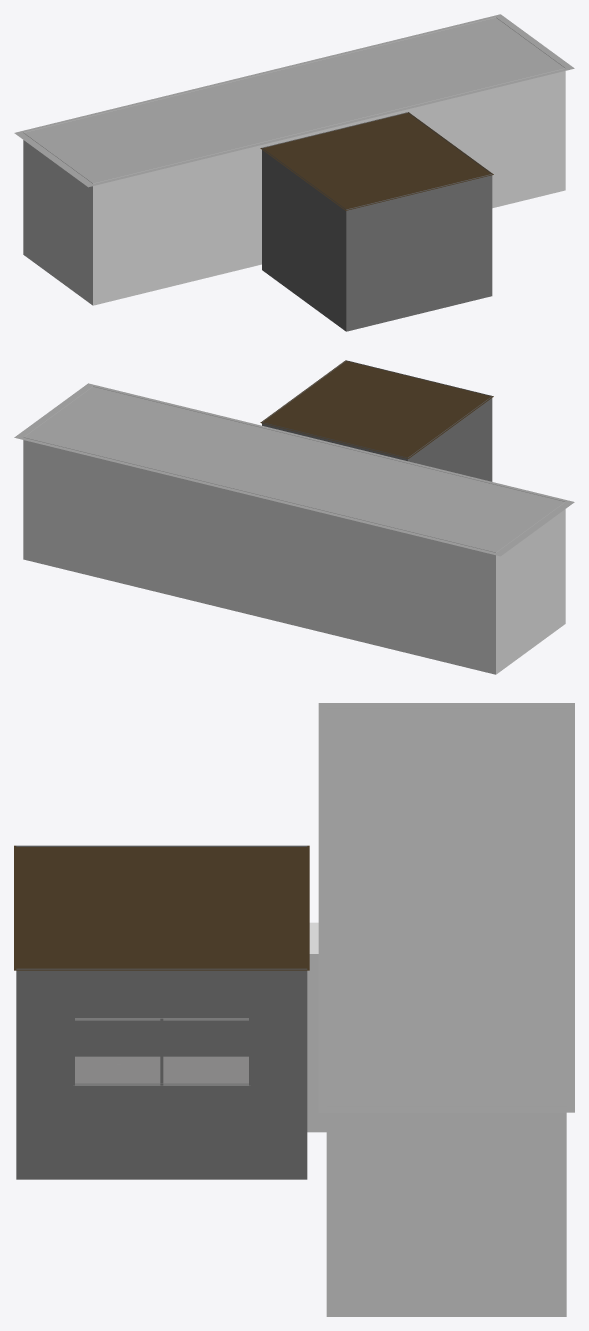
Rendered from Hospital_With_Windows_002.fbx.
3 views of the same model, one above another, from view 1: azimuth 30°, elevation 25°; view 2: azimuth 150°, elevation 25°; view 3: azimuth 270°, elevation 25° (orthographic). The views are drawn at different scales.
Visible parts, largest first — view 1: Room_003__Floor_Boards_:Rooms, Room_003__Floor_Boards_:Lab_Ceiling, Room_003__Floor_Boards_:Basement_Ceiling; view 2: Room_003__Floor_Boards_:Rooms, Room_003__Floor_Boards_:Lab_Ceiling, Room_003__Floor_Boards_:Basement_Ceiling; view 3: Room_003__Floor_Boards_:Rooms, Room_003__Floor_Boards_:Lab_Ceiling, Room_003__Floor_Boards_:Basement_Ceiling.
Part boxes in pixels (bbox=[...]): Room_003__Floor_Boards_:Rooms: bbox=[23, 17, 565, 331]; Room_003__Floor_Boards_:Lab_Ceiling: bbox=[14, 14, 574, 187]; Room_003__Floor_Boards_:Basement_Ceiling: bbox=[260, 112, 493, 210]; Room_003__Floor_Boards_:Rooms: bbox=[23, 360, 565, 674]; Room_003__Floor_Boards_:Lab_Ceiling: bbox=[14, 383, 574, 556]; Room_003__Floor_Boards_:Basement_Ceiling: bbox=[260, 360, 493, 458]; Room_003__Floor_Boards_:Rooms: bbox=[16, 708, 566, 1316]; Room_003__Floor_Boards_:Lab_Ceiling: bbox=[318, 703, 574, 1112]; Room_003__Floor_Boards_:Basement_Ceiling: bbox=[14, 845, 309, 970].
Bounding box in the file's own units: 1000 × 240 × 579.
Materials: 3 (2 with a texture image).
